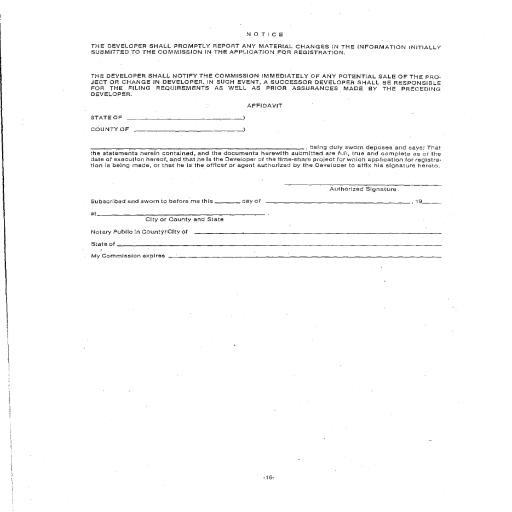Signature: (329, 186, 397, 194)
date: (91, 252, 168, 260)
free_text: (144, 215, 226, 225), (88, 124, 130, 134), (89, 112, 123, 122)
